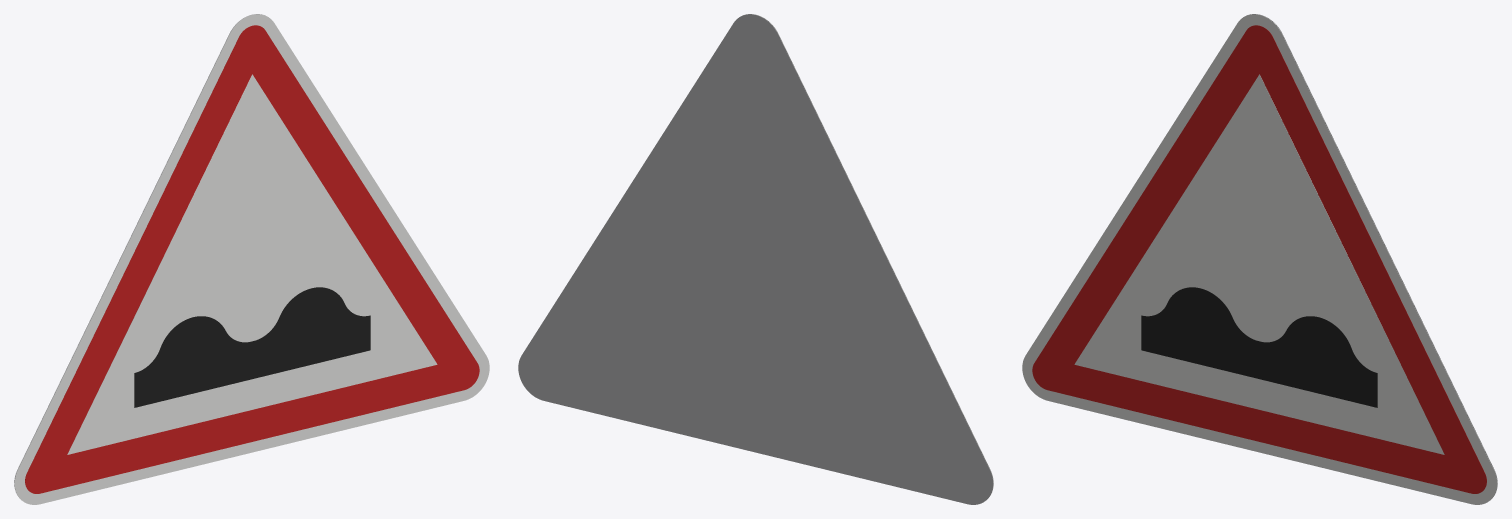
3 renders of one model, left to right at view 1: azimuth 30°, elevation 25°; view 2: azimuth 150°, elevation 25°; view 3: azimuth 330°, elevation 25°, orthographic.
Visible parts, largest first — view 1: A2a_p02, A2a_p01, A2a_p00, A2a_p03, A2a_dos; view 2: A2a_dos, A2a_p00; view 3: A2a_p02, A2a_p01, A2a_p00, A2a_p03, A2a_dos.
Part boxes in pixels (x1=…): A2a_p02: x1=67, y1=74, x2=437, y2=454; A2a_p01: x1=25, y1=25, x2=479, y2=493; A2a_p00: x1=14, y1=14, x2=489, y2=504; A2a_p03: x1=134, y1=287, x2=370, y2=407; A2a_dos: x1=14, y1=14, x2=265, y2=500; A2a_dos: x1=518, y1=14, x2=993, y2=504; A2a_p00: x1=742, y1=14, x2=993, y2=500; A2a_p02: x1=1074, y1=74, x2=1444, y2=454; A2a_p01: x1=1032, y1=25, x2=1486, y2=493; A2a_p00: x1=1022, y1=14, x2=1497, y2=504; A2a_p03: x1=1141, y1=287, x2=1377, y2=407; A2a_dos: x1=1246, y1=14, x2=1497, y2=500.
Size of the model in its own units: 1 by 0.8803 by 0.0031.
